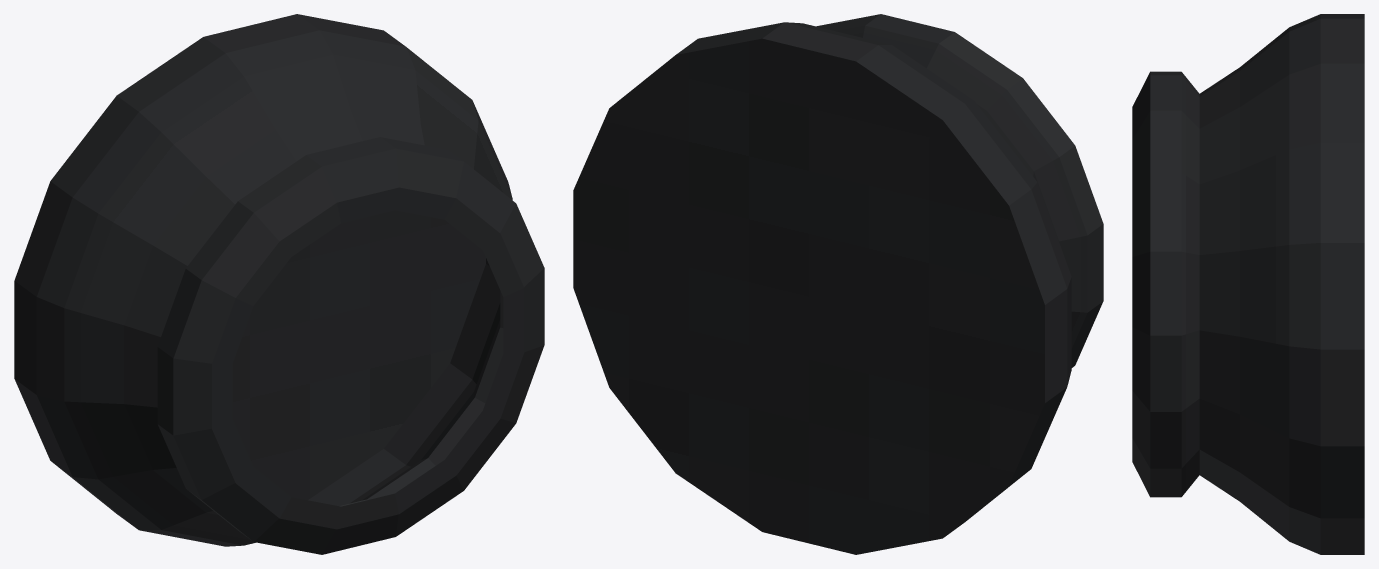
File: decopole_lafluted_tenon_n.obj
3 renders of one model, left to right at view 1: azimuth 30°, elevation 25°; view 2: azimuth 150°, elevation 25°; view 3: azimuth 270°, elevation 25°, orthographic.
Visible parts, largest first — view 1: decopole_lafluted_tenon_n; view 2: decopole_lafluted_tenon_n; view 3: decopole_lafluted_tenon_n.
Part boxes in pixels (x1,y1,x2,y2): decopole_lafluted_tenon_n: [14, 14, 544, 554]; decopole_lafluted_tenon_n: [573, 14, 1103, 554]; decopole_lafluted_tenon_n: [1132, 14, 1364, 554].
Size of the model in its own units: 0.7478 by 0.7478 by 0.3237.
